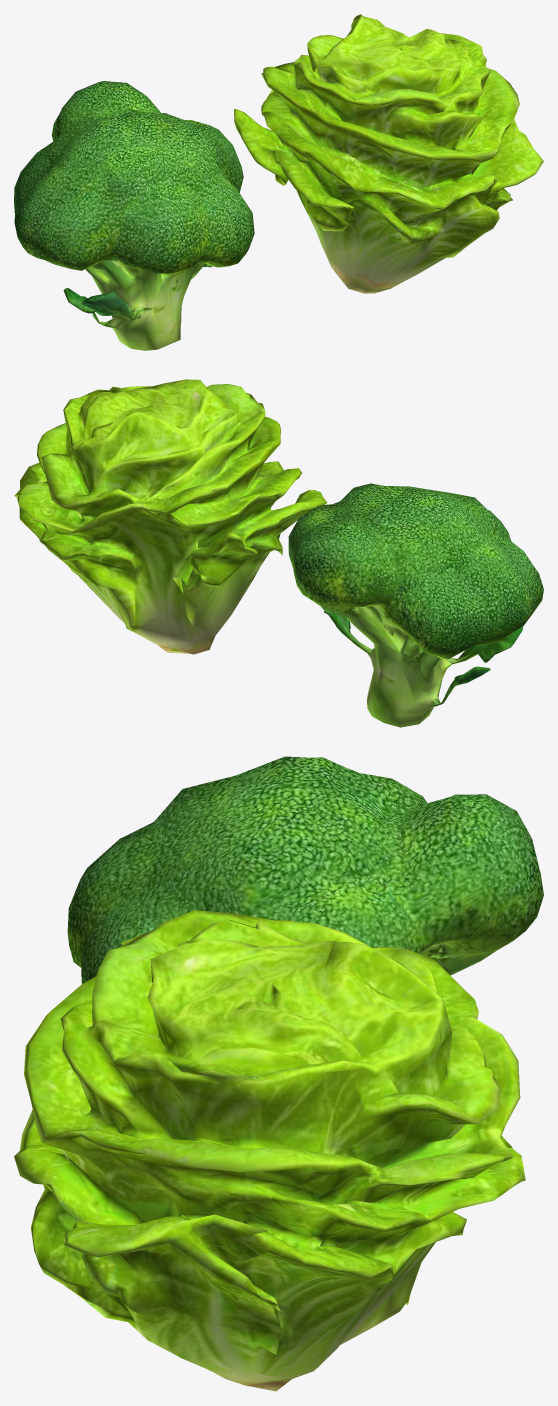
The model's file is lettuce-broccoli.glb.
3 views of the same model, one above another, from view 1: azimuth 30°, elevation 25°; view 2: azimuth 150°, elevation 25°; view 3: azimuth 270°, elevation 25° (orthographic). The views are drawn at different scales.
Parts seen in each view (by area): view 1: Mesh0; view 2: Mesh0; view 3: Mesh0.
Boxes of the visible parts, <box> form: Mesh0: <box>14,14,543,350</box>; Mesh0: <box>14,379,543,727</box>; Mesh0: <box>14,756,543,1391</box>.
Size of the model in its own units: 0.2033 by 0.1015 by 0.1062.
1 material, 1 textured.
